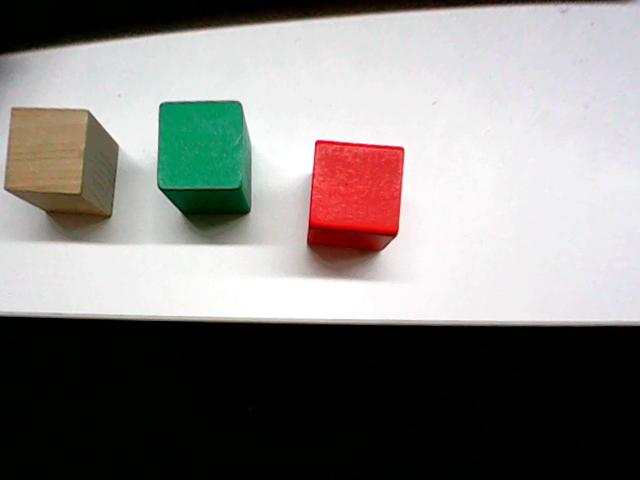green_box: (154, 95, 255, 220)
raw_box: (2, 98, 124, 230)
red_box: (304, 134, 407, 255)
